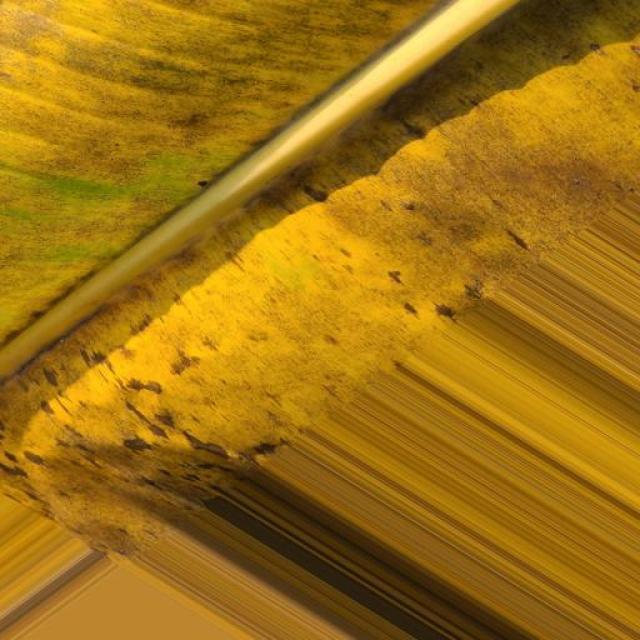Cordana: (0, 0, 624, 616)
